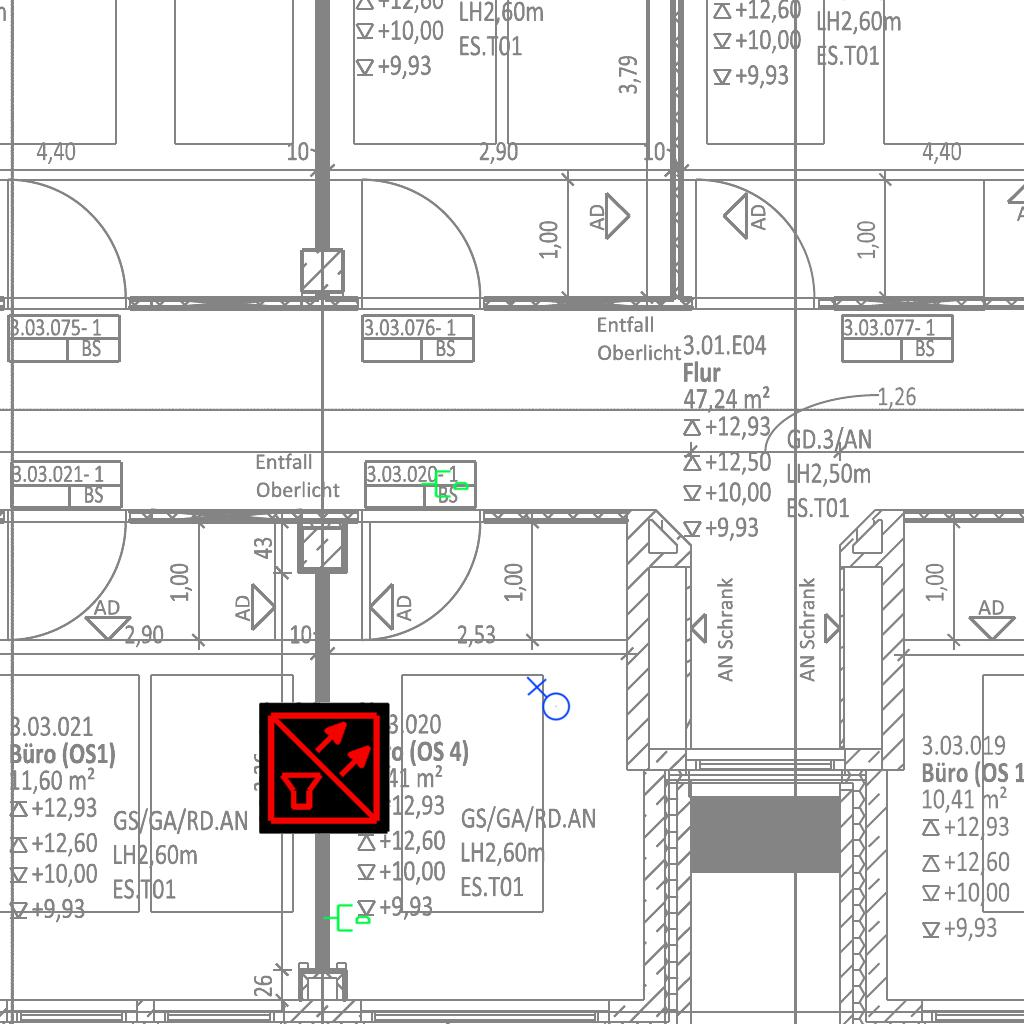Datenanschluss_einfach: (322, 900, 372, 934), (420, 466, 470, 500)
Elektroanschluss_allgemein_230V_Geraeteanschlussdose_230V: (524, 676, 571, 725)
OKW_Multisensormelder_(Kombination_optischer_Rauch-Kahlenmonoxid_Waerme-Melder): (259, 702, 391, 834)
